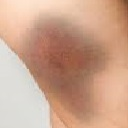Cellulitis: (30, 18, 85, 84)
